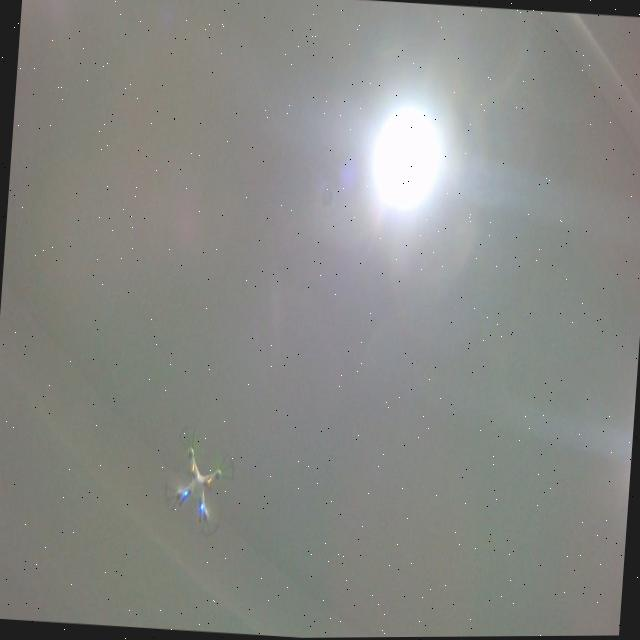drone: (160, 419, 238, 544)
